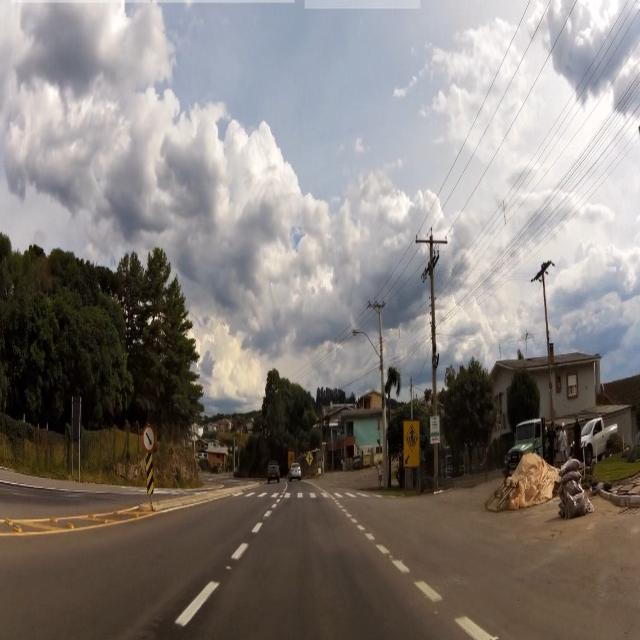MP: (145, 453, 153, 493)
R-24b: (144, 425, 156, 452)
